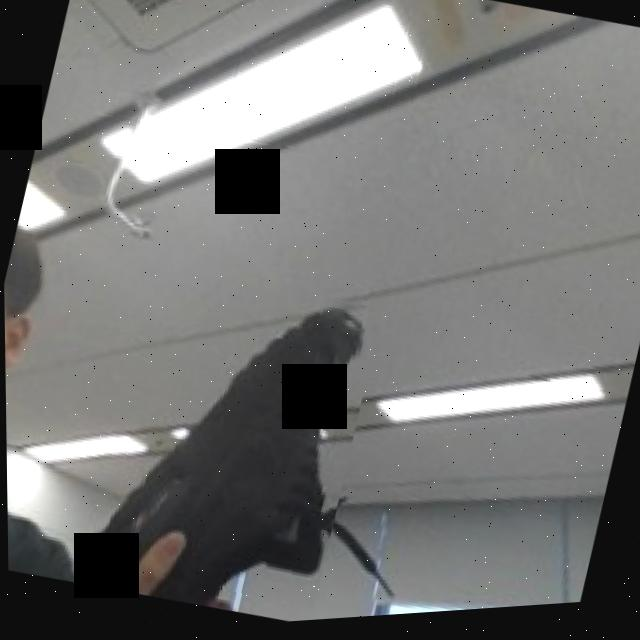shoe: (73, 248, 386, 636)
